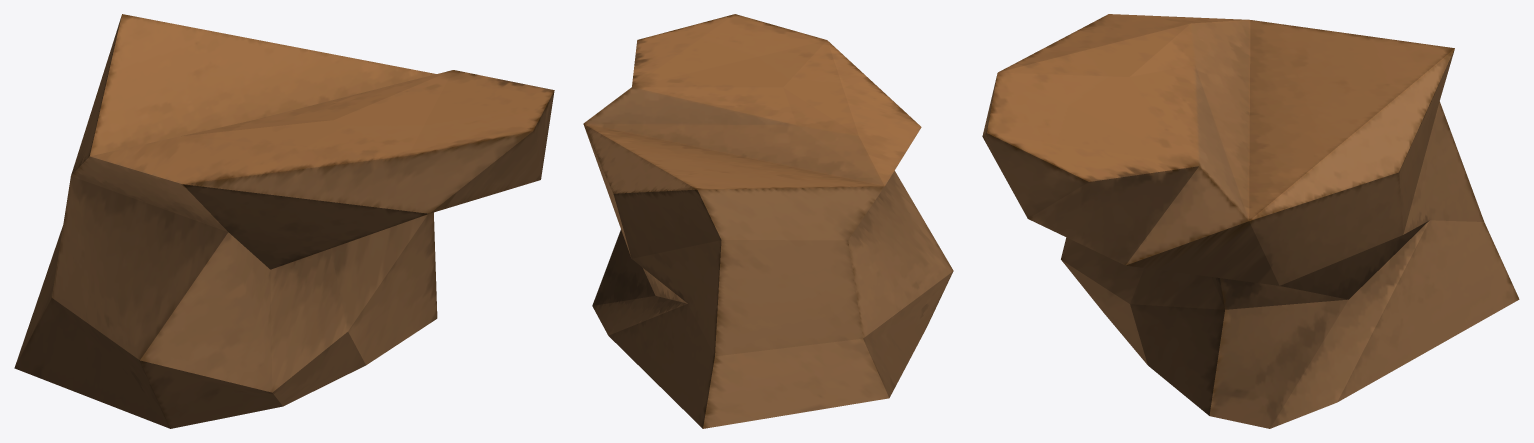
The model's file is Coincraft_Rock_01.fbx.
3 views of the same model, side by side, from view 1: azimuth 30°, elevation 25°; view 2: azimuth 150°, elevation 25°; view 3: azimuth 270°, elevation 25° (orthographic). The views are drawn at different scales.
Parts seen in each view (by area): view 1: Rock_01; view 2: Rock_01; view 3: Rock_01.
Part boxes in pixels (x1,y1,x2,y2): Rock_01: (14, 14, 554, 428); Rock_01: (583, 14, 953, 428); Rock_01: (982, 14, 1519, 428).
Size of the model in its own units: 85.46 by 51.89 by 91.12.
Materials: 1 (1 with a texture image).
